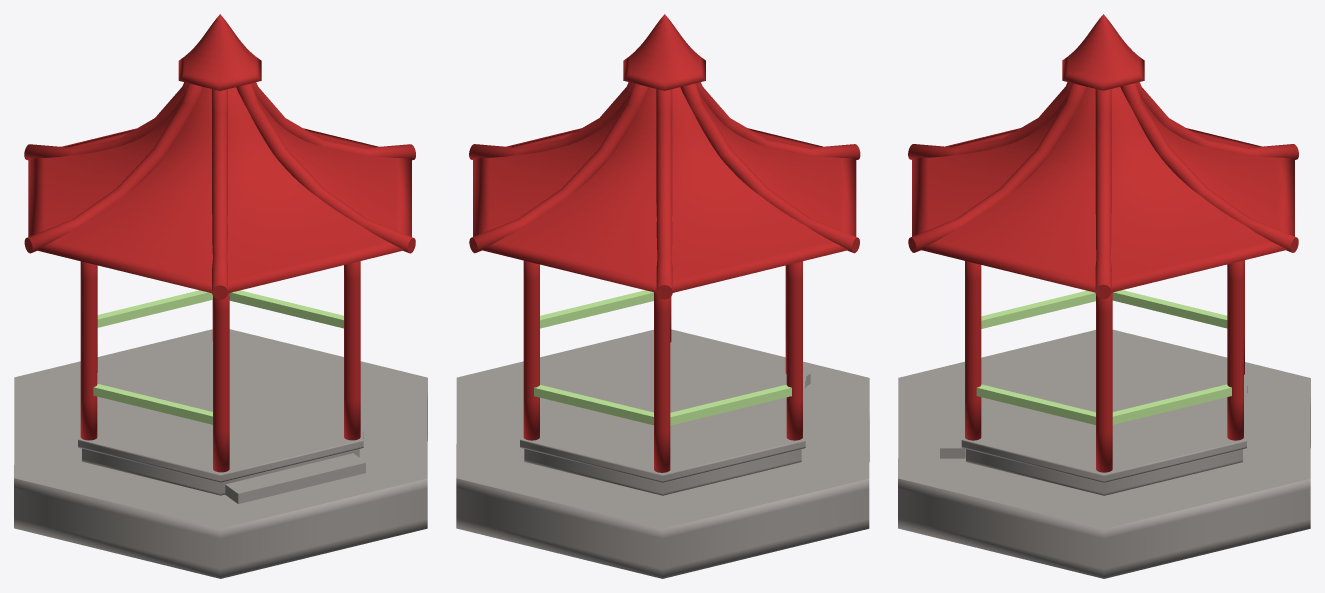
Rendered from pavillonneu.dae.
The picture shows the model from 3 angles, left to right: view 1: azimuth 30°, elevation 25°; view 2: azimuth 150°, elevation 25°; view 3: azimuth 270°, elevation 25°; orthographic projection.
Visible parts, largest first — view 1: Tube003, Kegel001, Tube002, Kegel002, Zylinder011, Zylinder008, Zylinder010, Quader001, Zylinder002, Zylinder003, Zylinder001, Tube001 (+5 smaller); view 2: Tube003, Kegel001, Tube002, Kegel002, Tube001, Zylinder012, Zylinder007, Zylinder010, Zylinder006, Zylinder005, Zylinder002, Zylinder009 (+4 smaller); view 3: Tube003, Kegel001, Tube002, Kegel002, Tube001, Zylinder009, Zylinder008, Zylinder007, Zylinder005, Zylinder004, Zylinder003, Zylinder012 (+6 smaller).
Part boxes in pixels (x1,y1,x2,y2): Tube003: [14, 329, 427, 578]; Kegel001: [28, 87, 411, 293]; Tube002: [78, 337, 363, 482]; Kegel002: [178, 14, 261, 90]; Zylinder011: [212, 89, 227, 299]; Zylinder008: [236, 83, 415, 253]; Zylinder010: [24, 83, 203, 253]; Quader001: [225, 453, 365, 503]; Zylinder002: [80, 261, 97, 440]; Zylinder003: [344, 261, 360, 440]; Zylinder001: [213, 293, 229, 472]; Tube001: [82, 448, 359, 495]; Tube003: [456, 329, 869, 578]; Kegel001: [473, 87, 856, 292]; Tube002: [520, 337, 805, 482]; Kegel002: [623, 14, 705, 90]; Tube001: [524, 449, 801, 495]; Zylinder012: [656, 89, 672, 299]; Zylinder007: [469, 83, 649, 253]; Zylinder010: [680, 83, 859, 253]; Zylinder006: [654, 292, 670, 472]; Zylinder005: [523, 260, 539, 440]; Zylinder002: [786, 261, 802, 440]; Zylinder009: [469, 82, 633, 159]; Tube003: [898, 329, 1310, 578]; Kegel001: [912, 87, 1294, 292]; Tube002: [961, 337, 1247, 482]; Kegel002: [1062, 14, 1144, 90]; Tube001: [966, 449, 1242, 495]; Zylinder009: [1095, 89, 1111, 299]; Zylinder008: [908, 83, 1087, 252]; Zylinder007: [1120, 83, 1298, 252]; Zylinder005: [1227, 260, 1243, 440]; Zylinder004: [1096, 292, 1112, 472]; Zylinder003: [965, 261, 981, 440]; Zylinder012: [1135, 82, 1298, 159].
Bounding box in the file's own units: 3.28 × 2.85 × 3.53.
